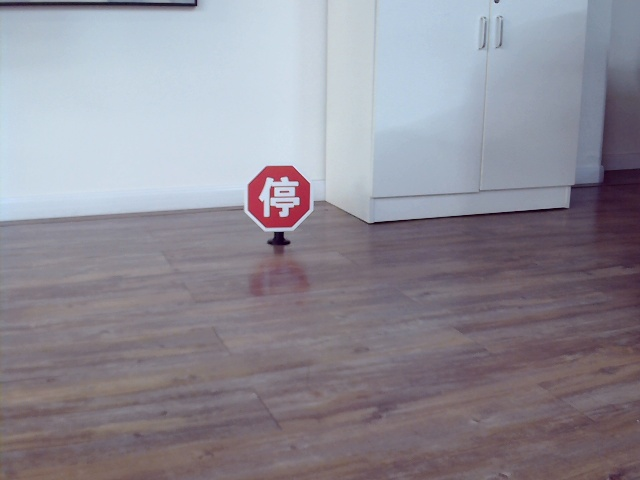stop: (257, 174, 299, 217)
